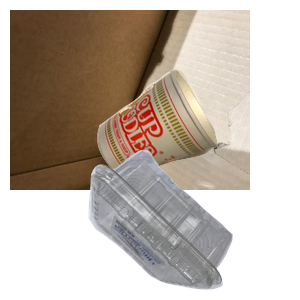cardboard: (10, 10, 250, 190)
glass: (94, 184, 253, 300)
plastic: (86, 147, 300, 300)
trash: (95, 67, 300, 238)
